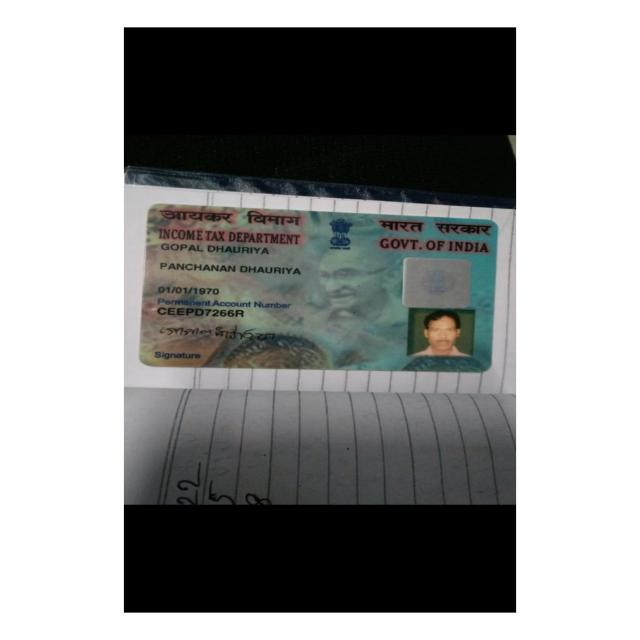pan_card: (138, 202, 498, 372)
